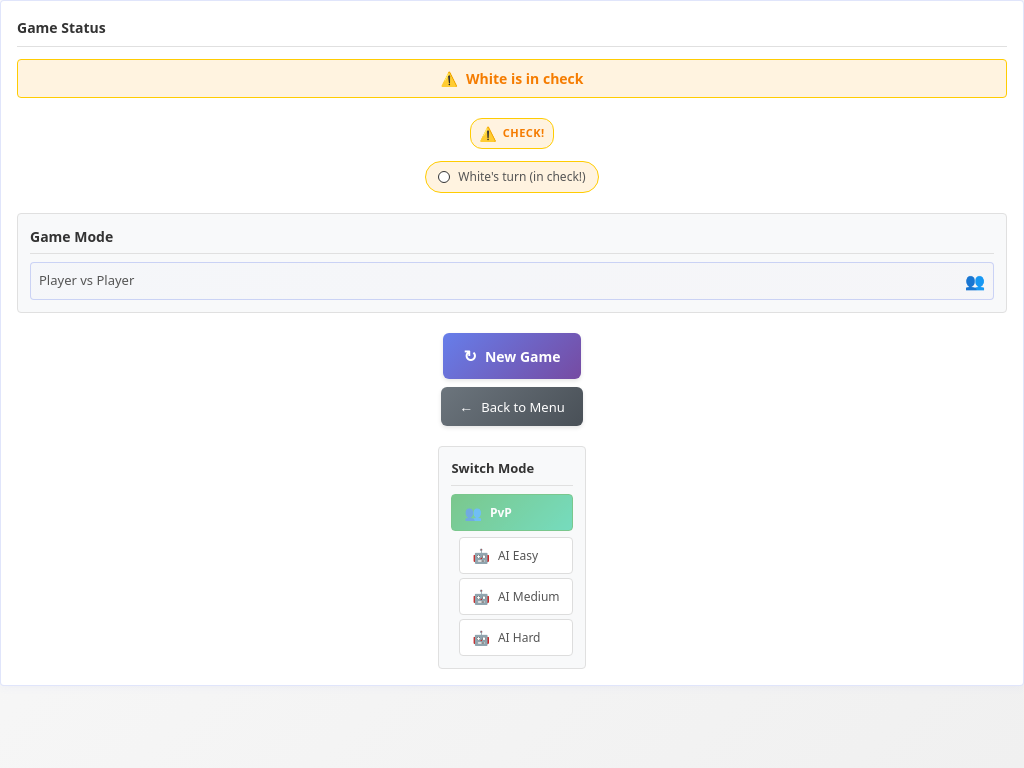
Scenario: GameControls Enhanced Mode Switching › Edge Cases › handles check status during mode change
Click the button with aria-label "Switch to AI mode - Easy difficulty" at (516, 555), box [460, 536, 573, 574]
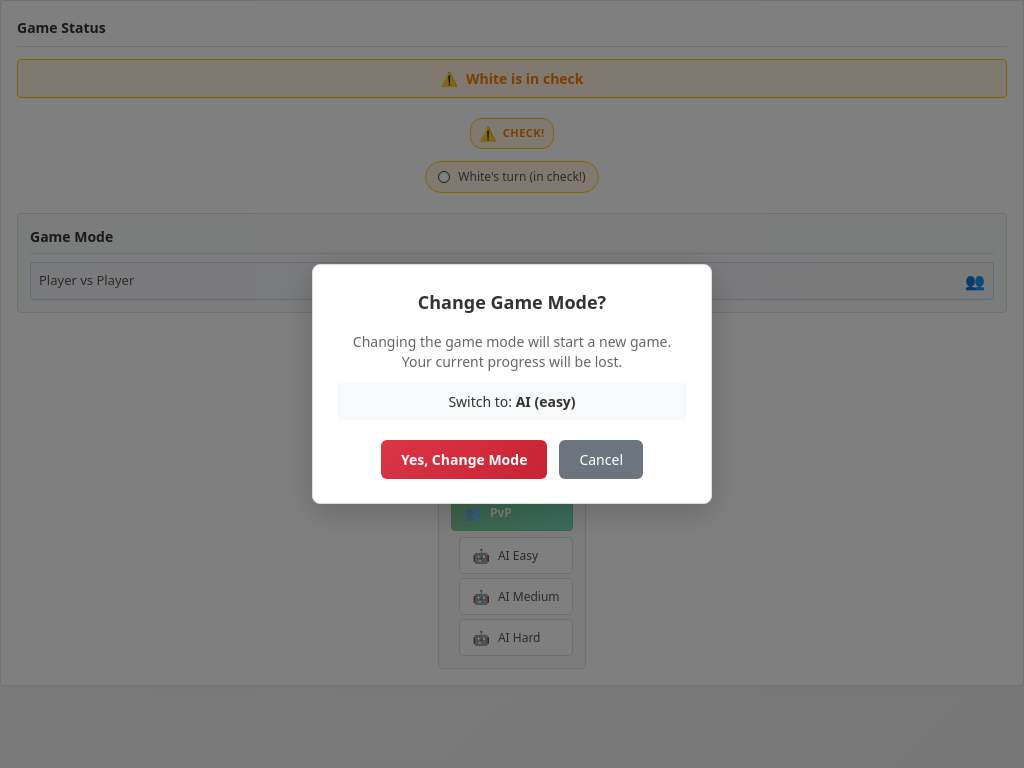
expect the heading "Change Game Mode?" is shown: met, box [418, 290, 606, 314]
